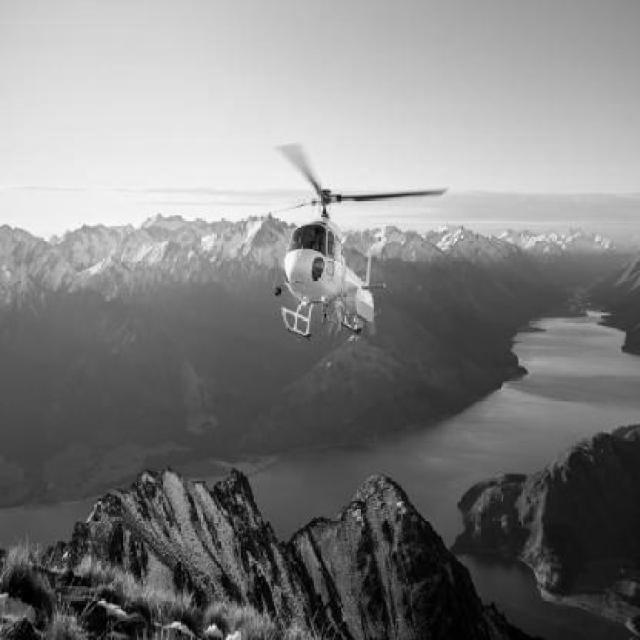helikopter: (146, 136, 460, 352)
